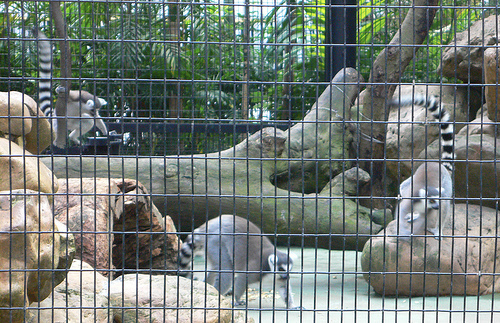cat: (178, 215, 295, 322), (31, 27, 112, 150), (390, 97, 457, 243)
